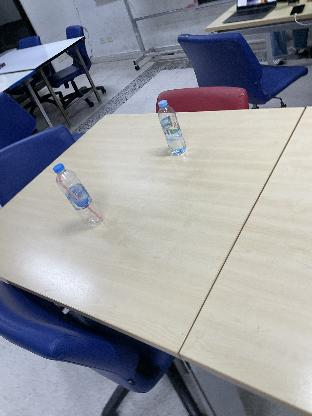Plastic Bottle: (53, 162, 105, 230), (157, 99, 187, 158)
